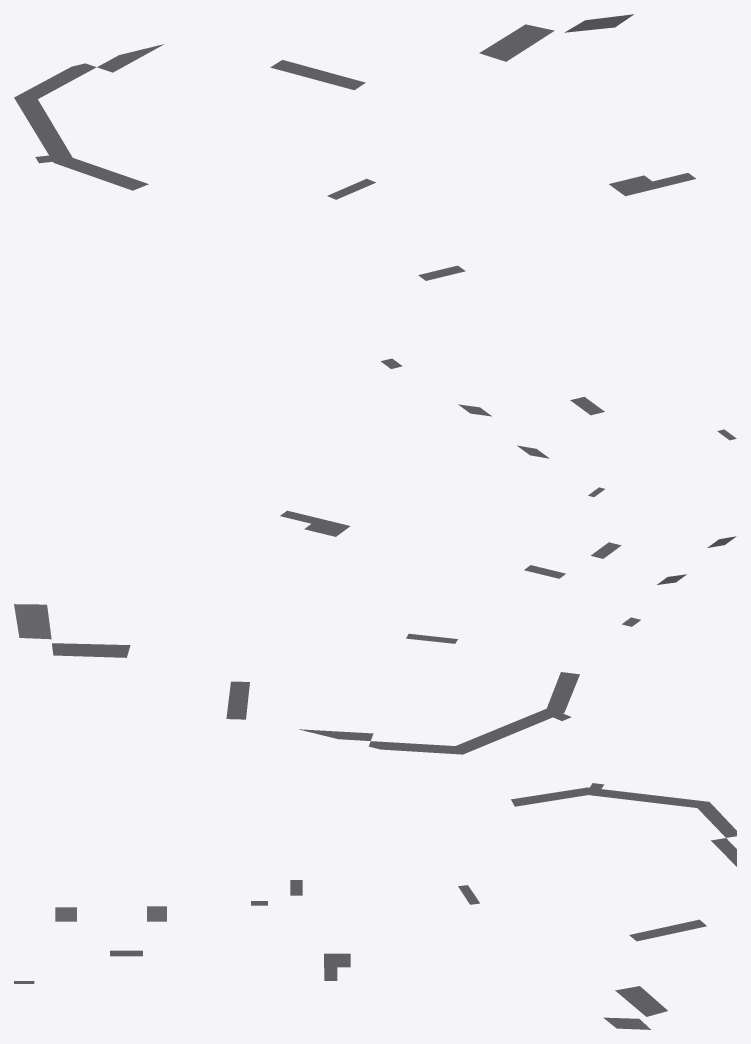
The model's file is kd_stage_1363c5_9_31_bounded.glb.
The picture shows the model from 3 angles, top to bottom: view 1: azimuth 30°, elevation 25°; view 2: azimuth 150°, elevation 25°; view 3: azimuth 270°, elevation 25°; orthographic projection. The views are drawn at different scales.
Parts seen in each view (by area): view 1: kd_stage_1363c5_9_31_bounded; view 2: kd_stage_1363c5_9_31_bounded; view 3: kd_stage_1363c5_9_31_bounded.
Part boxes in pixels (x1=…): kd_stage_1363c5_9_31_bounded: x1=14, y1=14, x2=736, y2=458; kd_stage_1363c5_9_31_bounded: x1=14, y1=487, x2=736, y2=754; kd_stage_1363c5_9_31_bounded: x1=14, y1=783, x2=736, y2=1029.
Size of the model in its own units: 98.86 by 13.94 by 128.
1 material, 1 textured.
